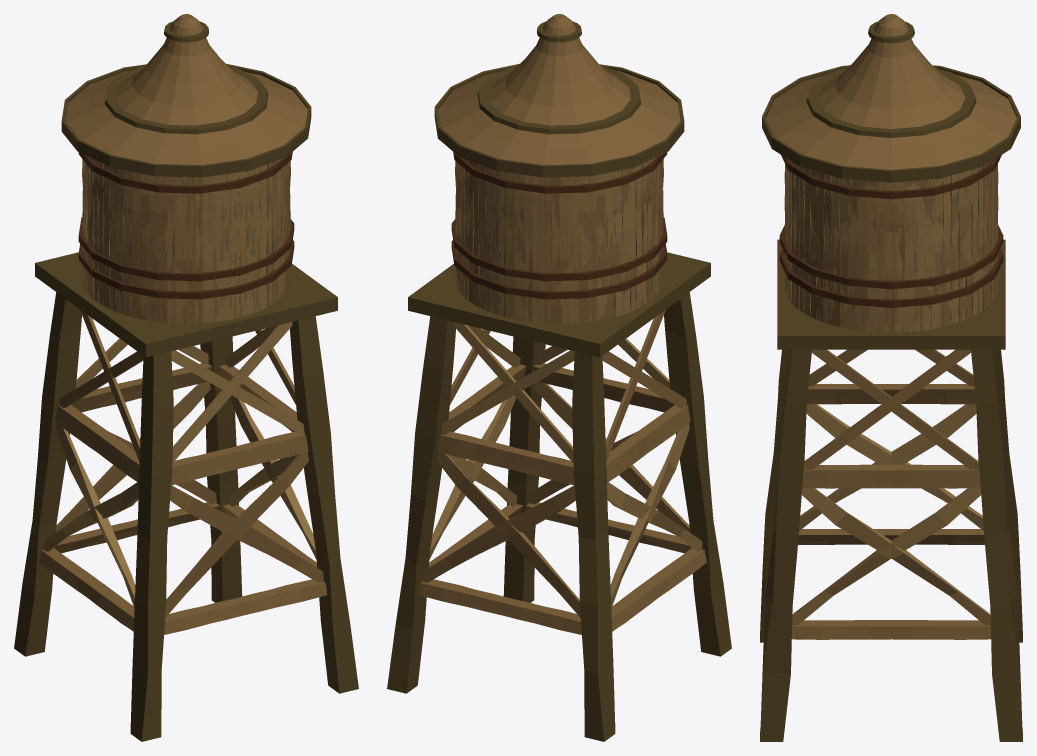
File: WaterTower.fbx
3 renders of one model, left to right at view 1: azimuth 30°, elevation 25°; view 2: azimuth 150°, elevation 25°; view 3: azimuth 270°, elevation 25°, orthographic. The views are drawn at different scales.
Parts seen in each view (by area): view 1: Cube; view 2: Cube; view 3: Cube.
Part boxes in pixels (x1,y1,x2,y2): Cube: (14, 14, 358, 741); Cube: (387, 14, 731, 741); Cube: (760, 14, 1022, 741).
Size of the model in its own units: 317 by 905 by 321.
